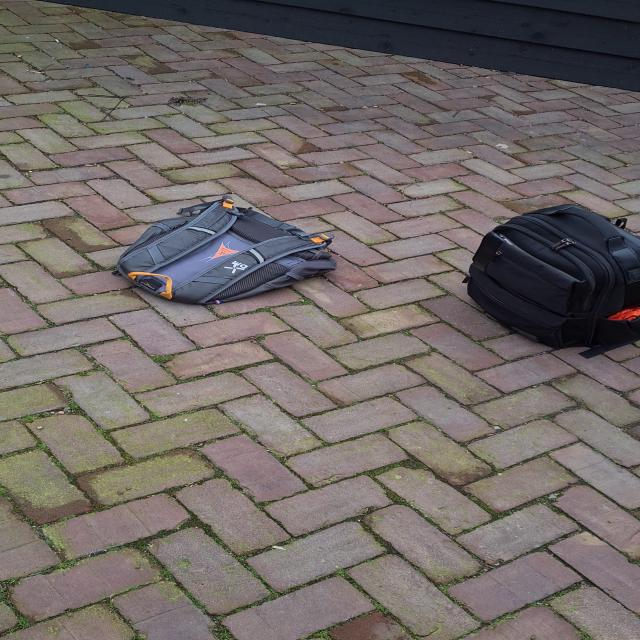backpack: (459, 201, 640, 356), (110, 200, 342, 310)
